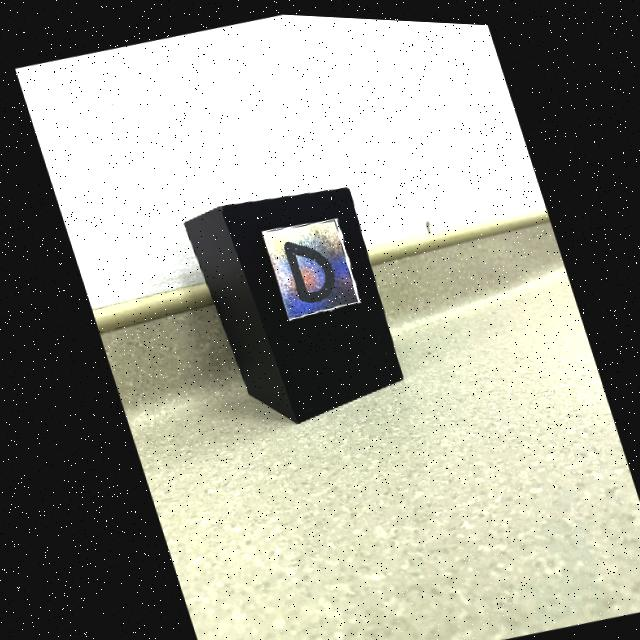D: (280, 239, 331, 299)
